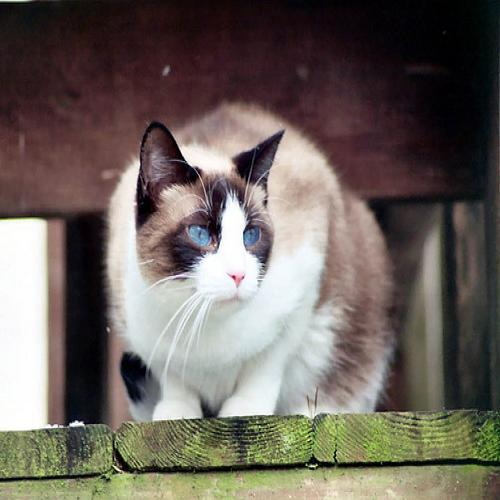ragdoll: (128, 114, 289, 329)
